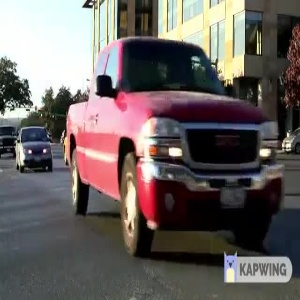car: (11, 125, 56, 172)
truck: (60, 37, 286, 252)
